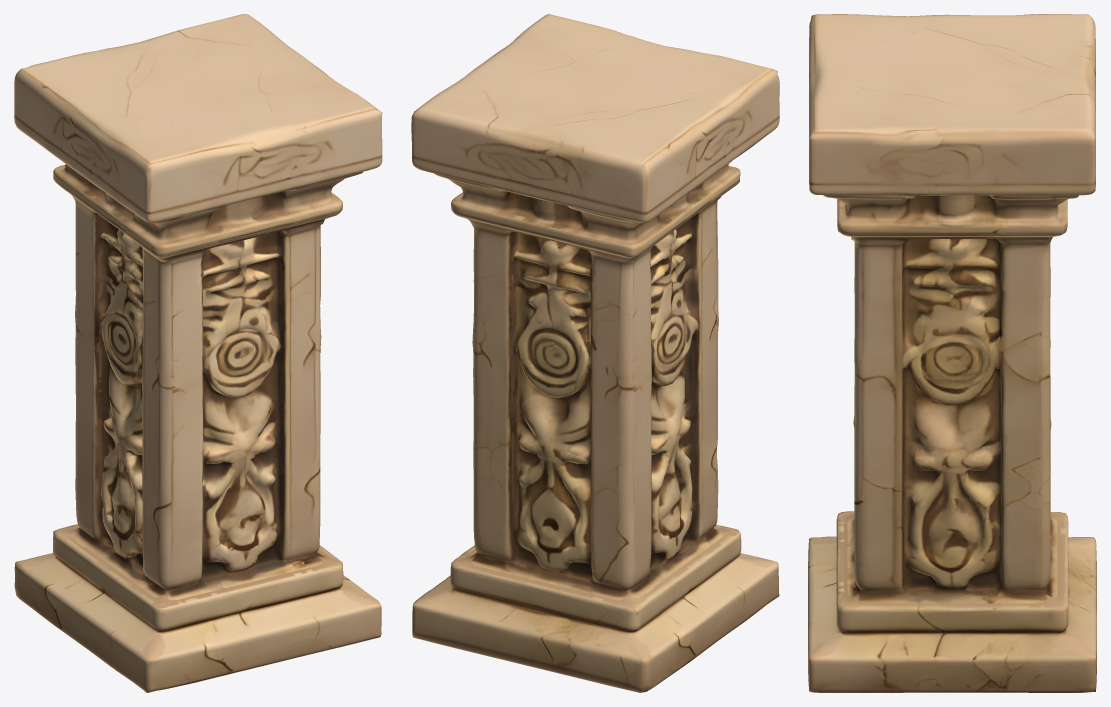
Rendered from temple-pillar.glb.
3 renders of one model, left to right at view 1: azimuth 30°, elevation 25°; view 2: azimuth 150°, elevation 25°; view 3: azimuth 270°, elevation 25°, orthographic. The views are drawn at different scales.
Visible parts, largest first — view 1: model; view 2: model; view 3: model.
Boxes of the visible parts, box(x1,y1,x2,y2) form: model: box(14, 14, 382, 692); model: box(411, 14, 779, 692); model: box(808, 14, 1096, 692).
Bounding box in the file's own units: 0.8899 × 1.9 × 0.8878.
Materials: 1 (1 with a texture image).
